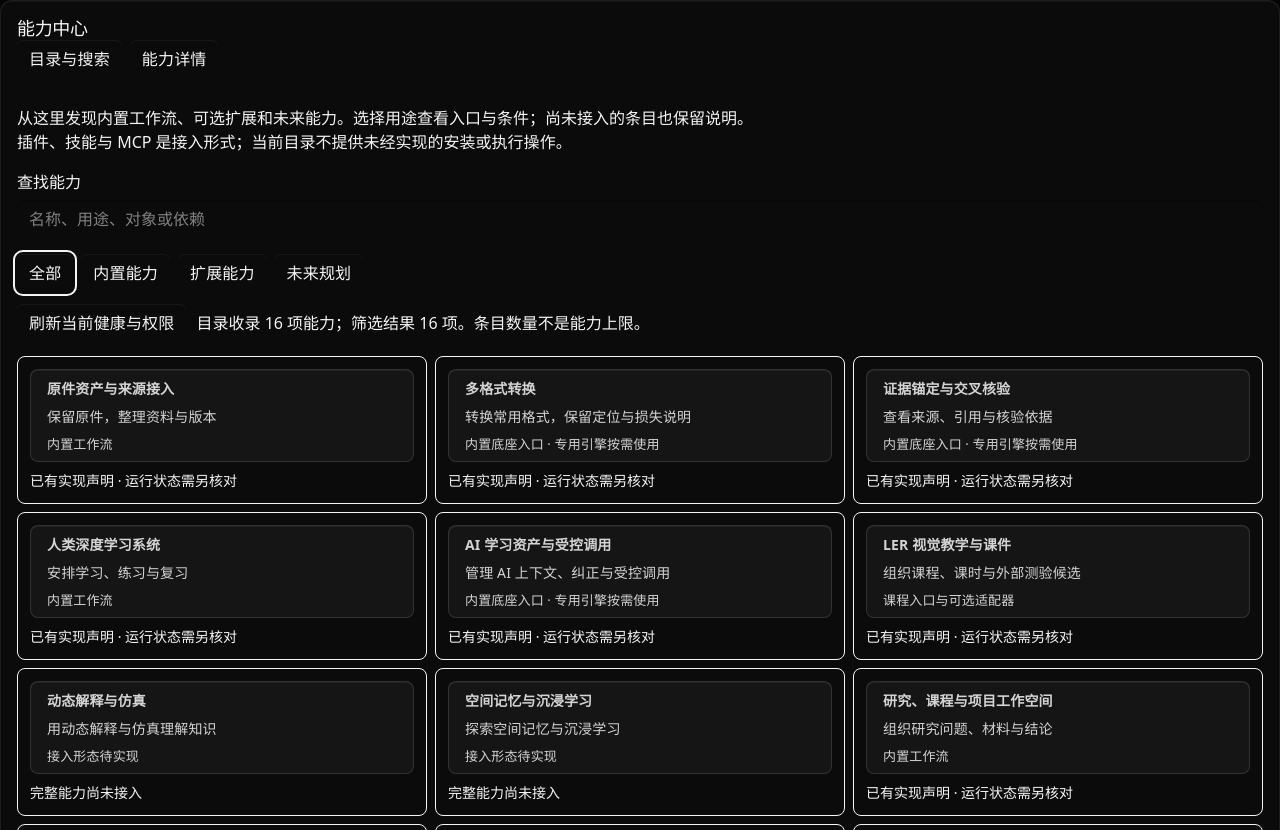
Test: single-source capability exploration › keeps future formal details available while refusing an unimplemented execution
Step 1. Click the button "空间记忆与沉浸学习 探索空间记忆与沉浸学习 接入形态待实现" → [529, 700], box left=448, top=680, right=832, bottom=774
(page scrolled)
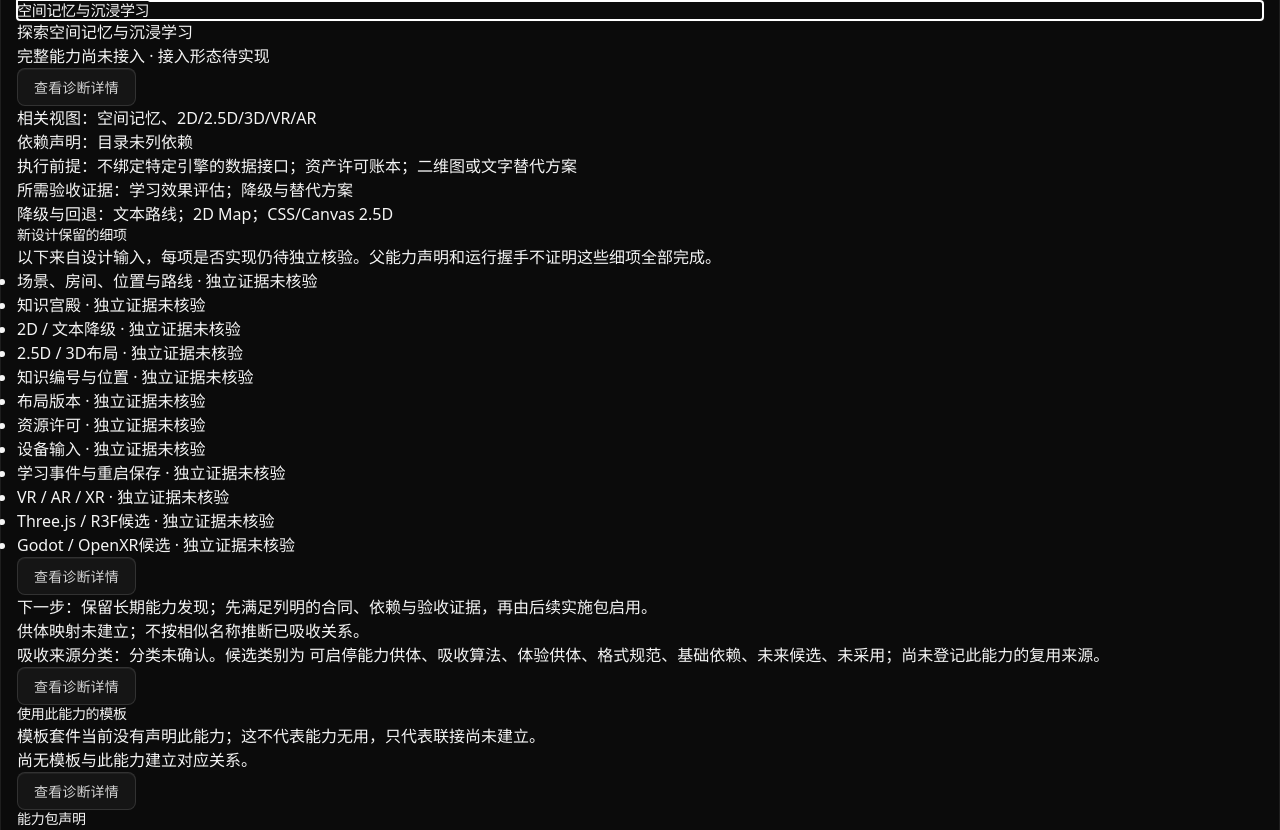
Result: the element named "能力详情" shows "完整能力尚未接入" at left=17, top=45, right=145, bottom=67
Result: the text "供体映射未建立；不按相似名称推断已吸收关系。" is shown at left=17, top=620, right=369, bottom=642
